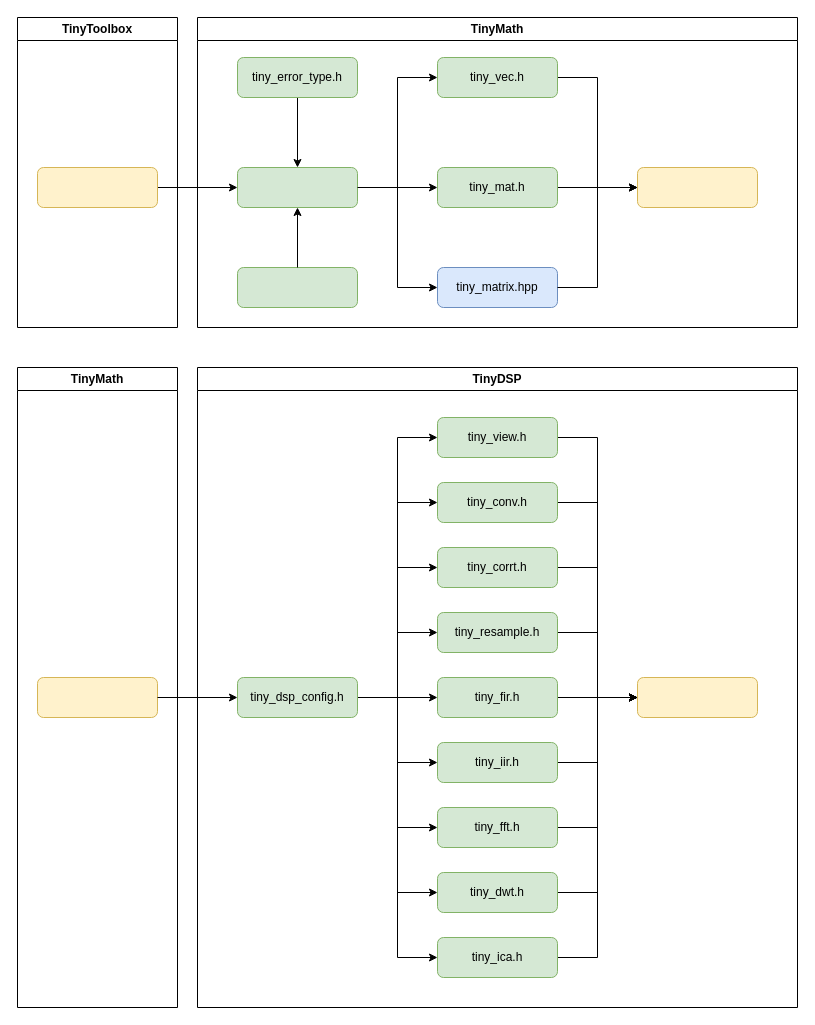
Image size: 815x1025. Some labels were removed from this diagram. The shapes that lost their labels are listed below. From the top down, each one's box as (x1, y1, x2, y2) in pixels, then its label:
(36, 166, 158, 208): tiny_toolbox.h
(236, 166, 358, 208): tiny_math_config.h
(636, 166, 758, 208): tiny_math.h
(236, 266, 358, 308): tiny_constants.h
(36, 676, 158, 718): tiny_math .h
(636, 676, 758, 718): tiny_dsp.h
